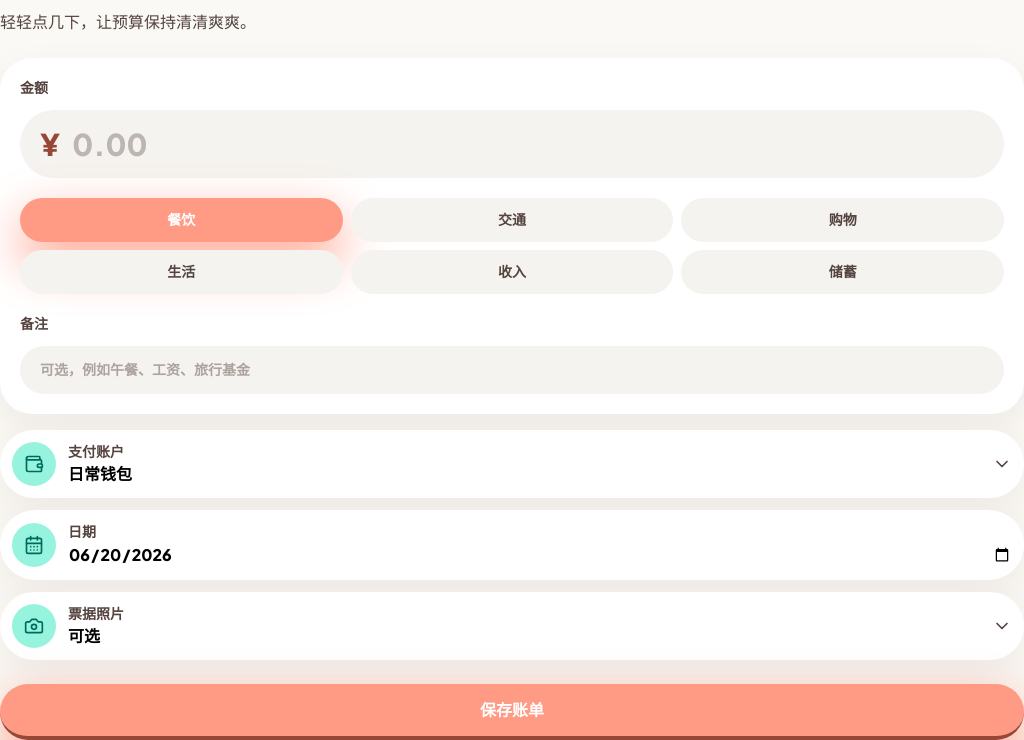
Scenario: AddBillPage › rejects empty amount
The image size is (1024, 740).
(page scrolled)
Click the button "保存账单" at [512, 712], box [0,684,1023,739]
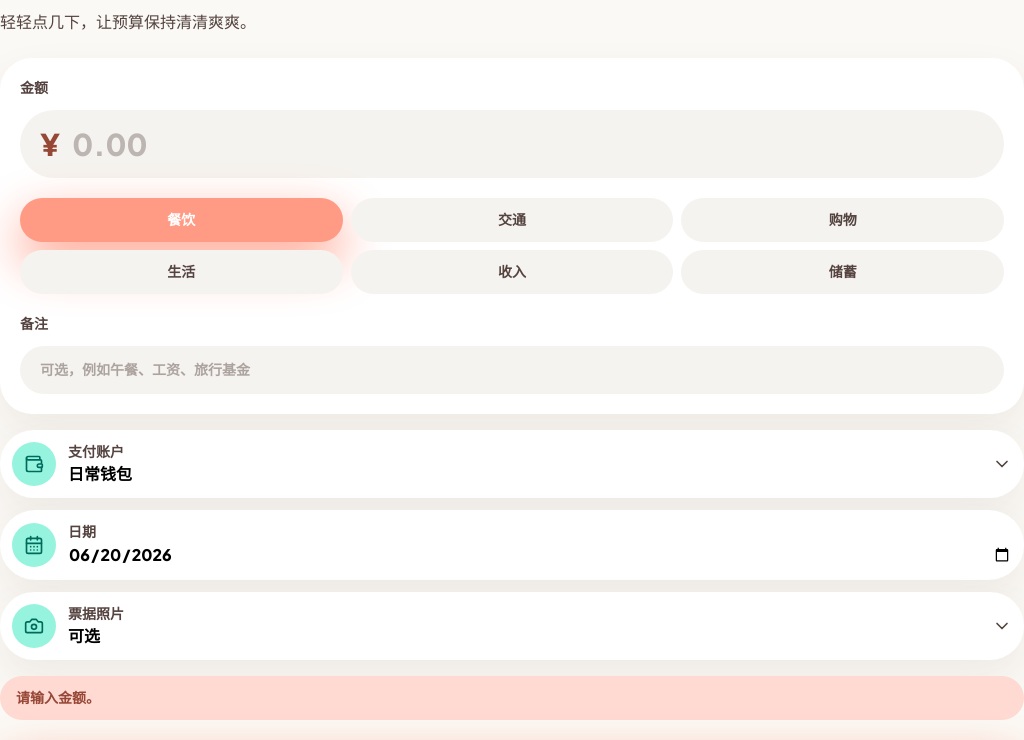
Result: the text "请输入金额。" is shown at [0,676,1023,720]
